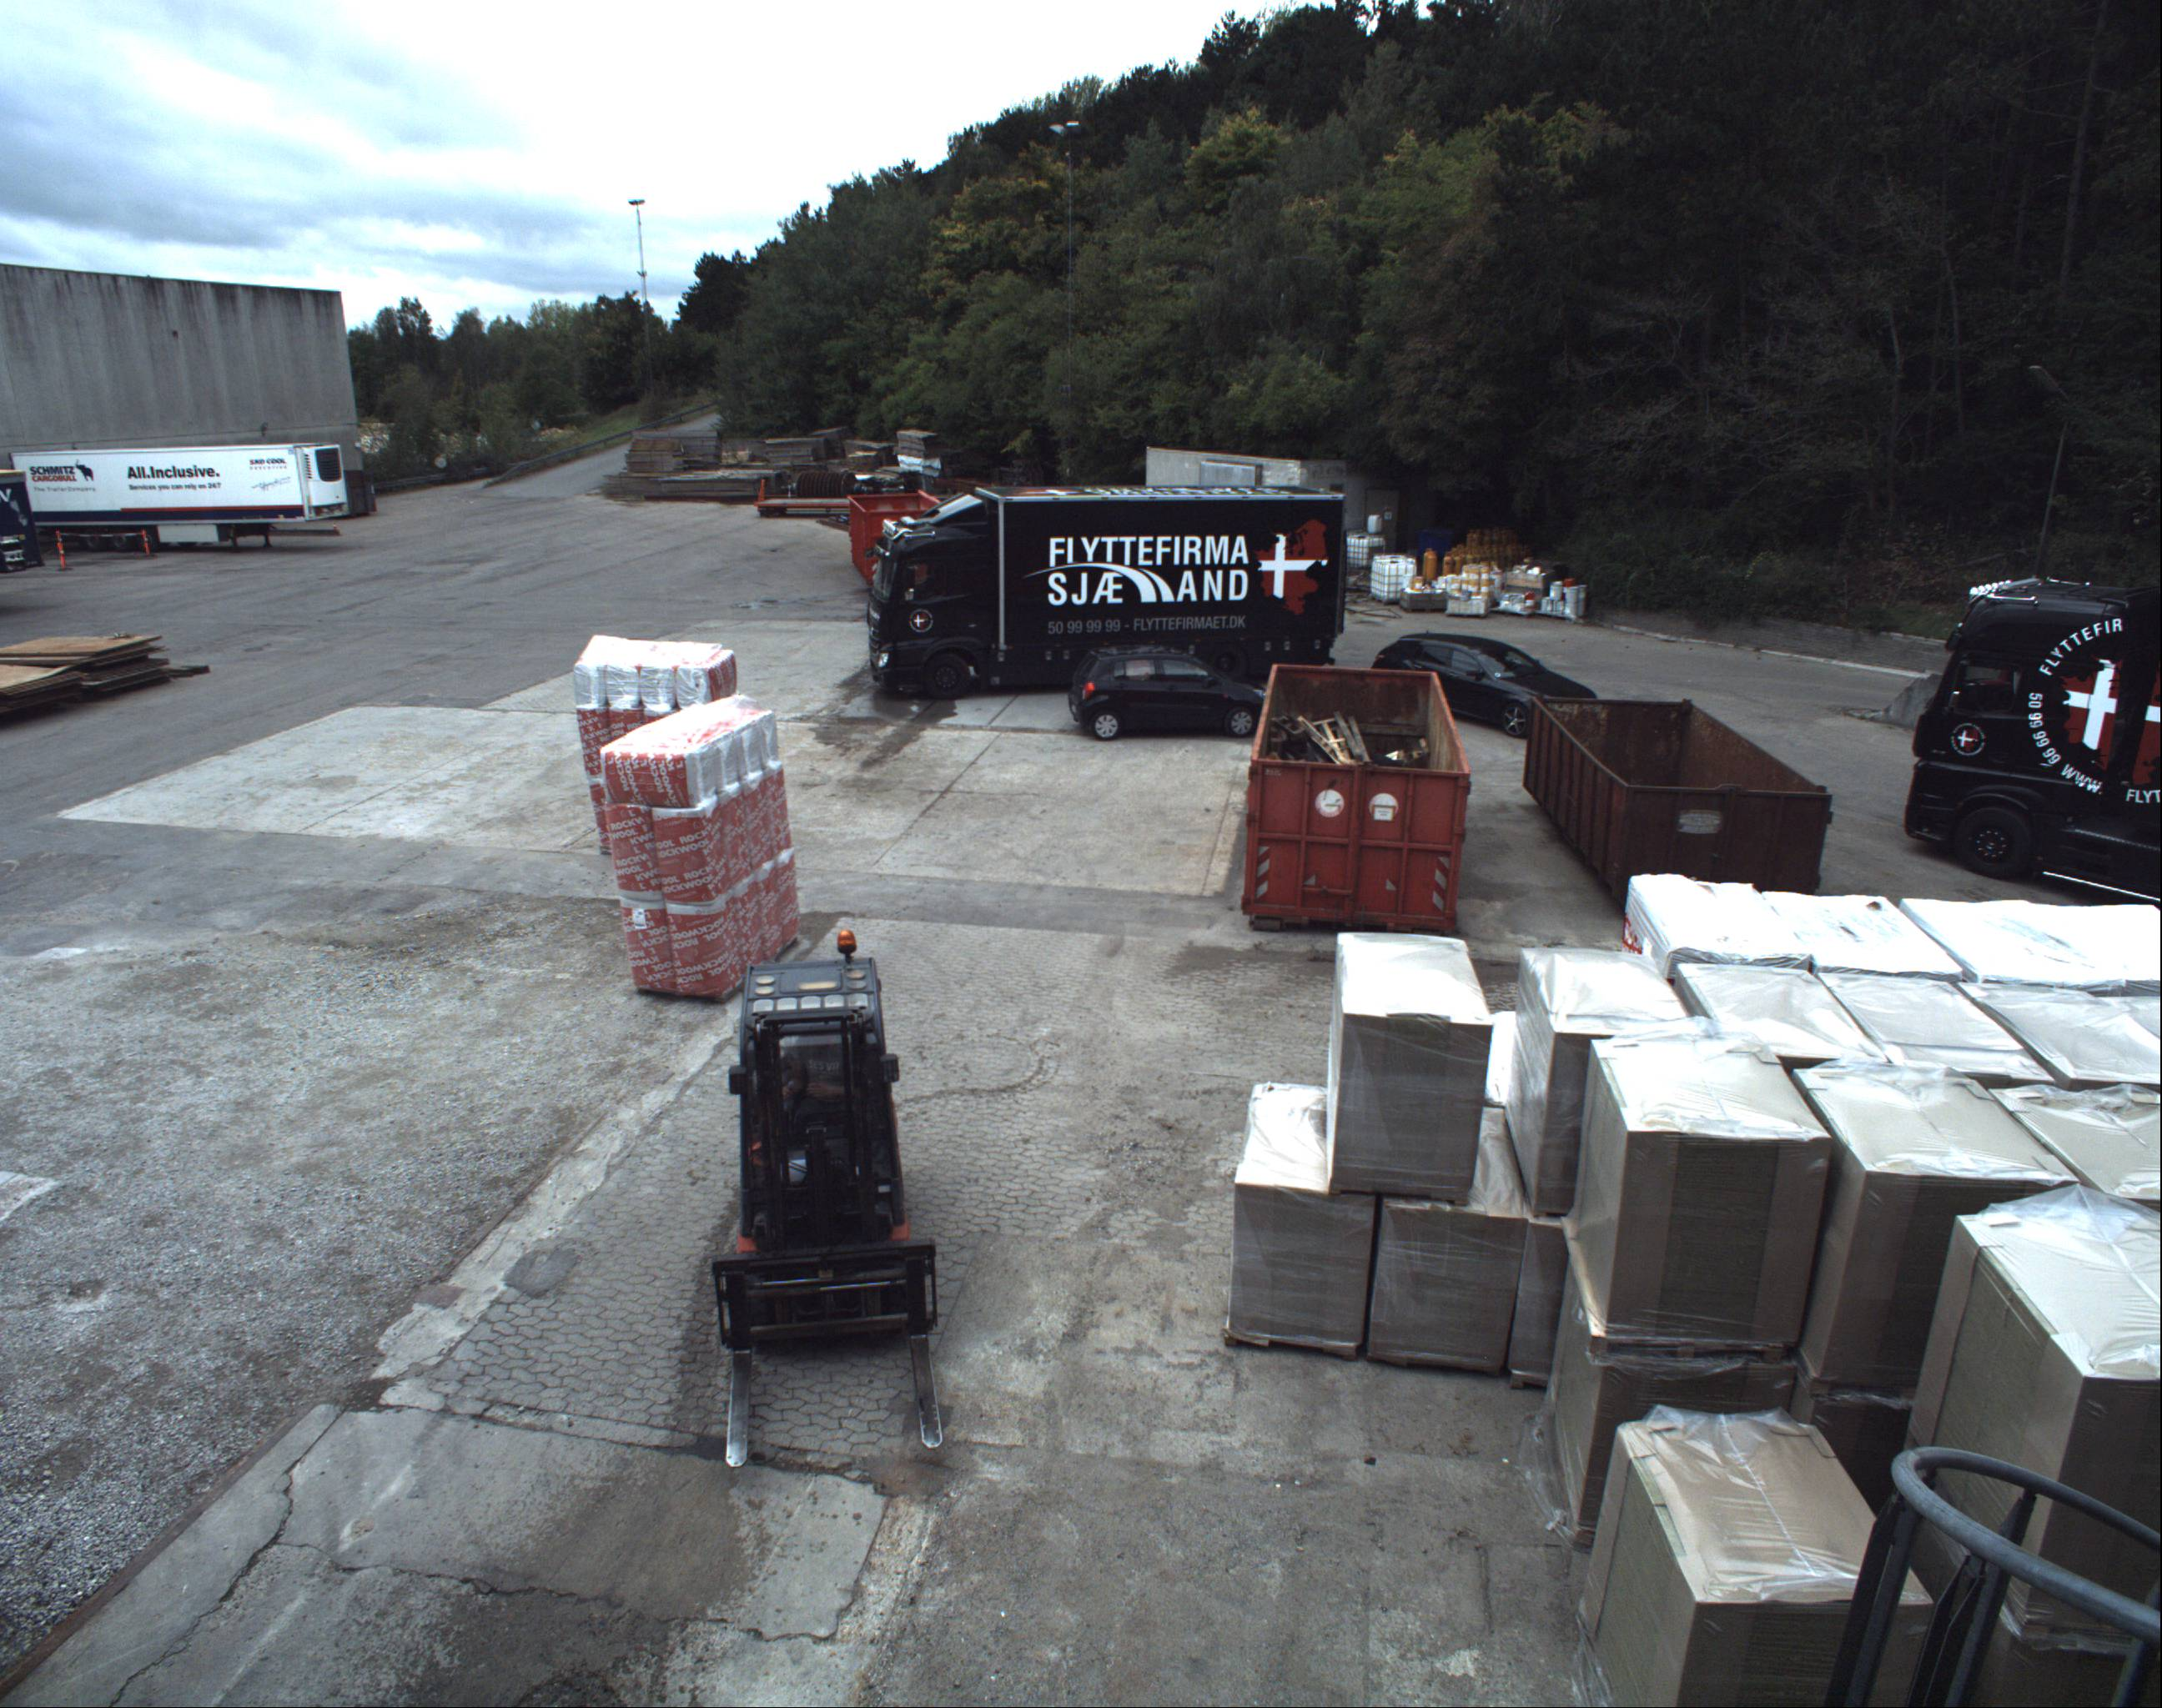rockwool_batts: (591, 695, 797, 987), (577, 635, 737, 806)
